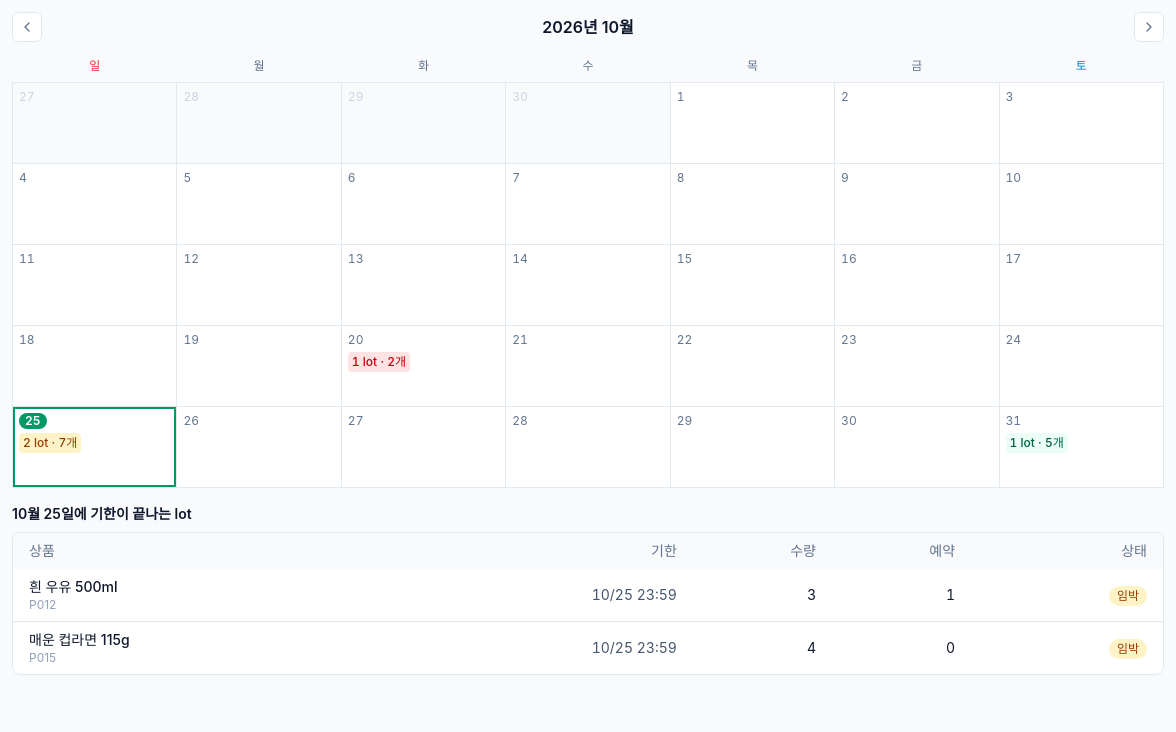
Scenario: 유통기한 달력 › 날짜를 누르면 그날 lot 을, lot 이 없는 날은 안내를 보여 준다
The image size is (1176, 732).
Click the button with aria-label "10월 20일, lot 1개 2개" at (424, 366), box [342, 326, 505, 406]
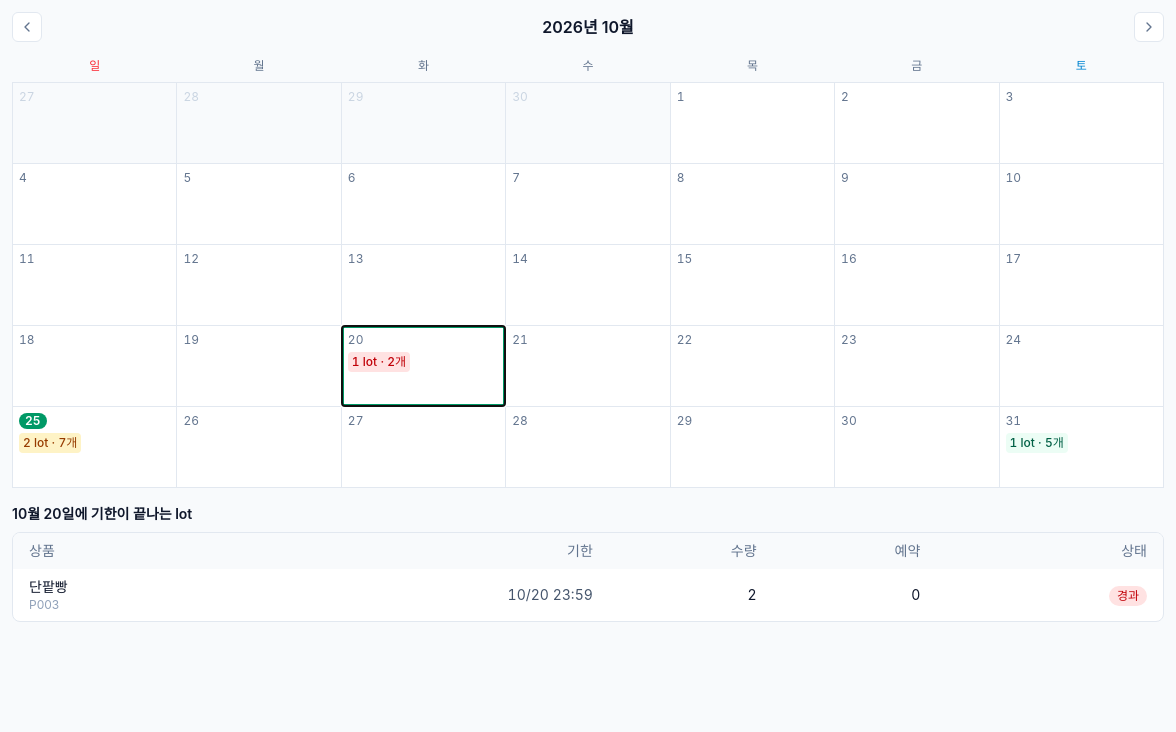
expect the text "단팥빵" is shown: met, box [29, 578, 68, 595]
expect the text "경과" is shown: met, box [1109, 586, 1147, 606]
Click the button named "10월 21일" at (588, 366), box [506, 326, 670, 406]
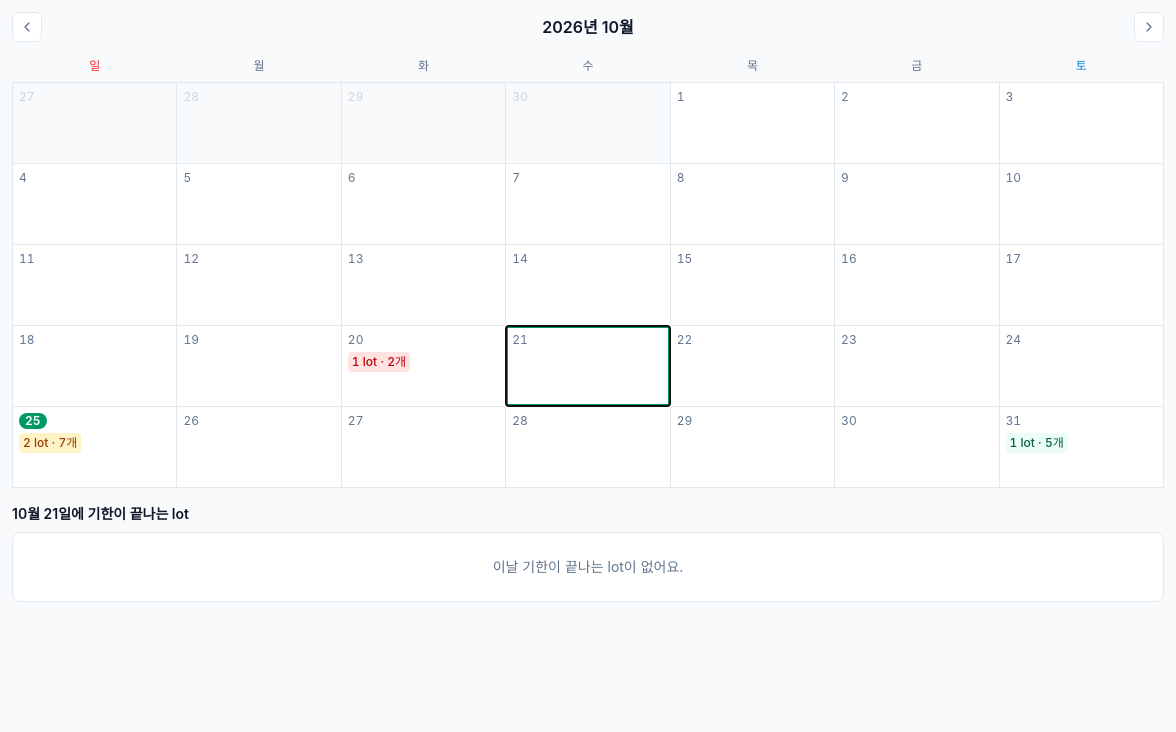
expect the text "이날 기한이 끝나는 lot이 없어요." is shown: met, box [12, 532, 1164, 602]
